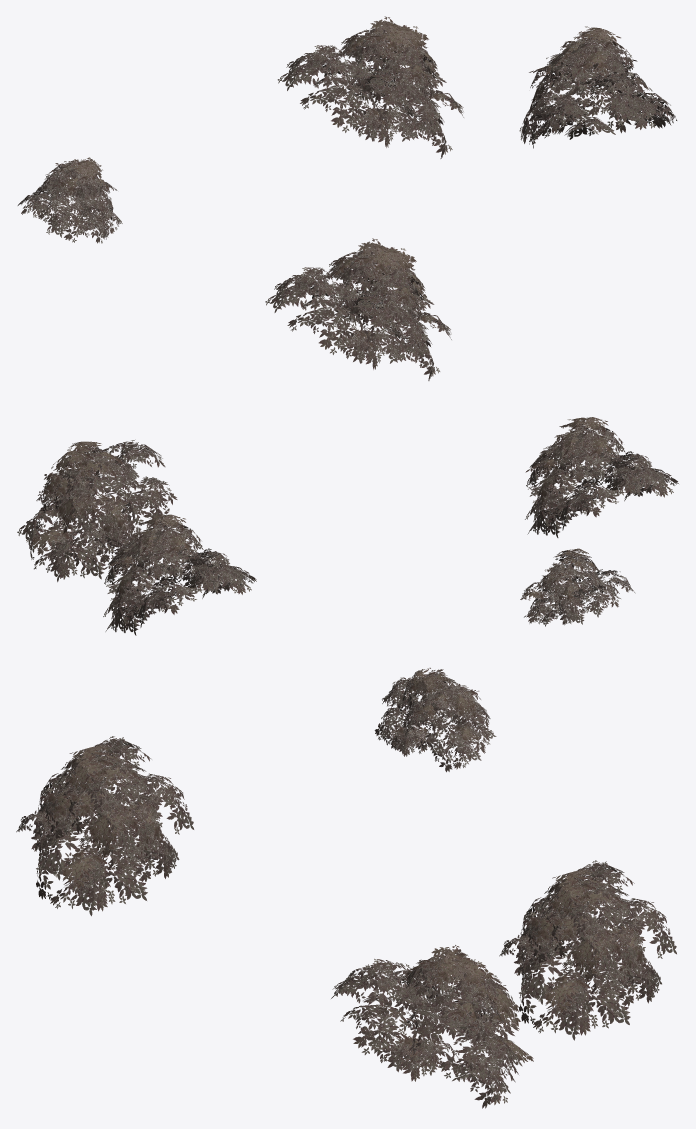
File: Area12_30.fbx
3 renders of one model, top to bottom at view 1: azimuth 30°, elevation 25°; view 2: azimuth 150°, elevation 25°; view 3: azimuth 270°, elevation 25°, orthographic. The views are drawn at different scales.
Parts seen in each view (by area): view 1: Area12_30; view 2: Area12_30; view 3: Area12_30.
Part boxes in pixels (x1=…): Area12_30: x1=17, y1=16, x2=677, y2=380; Area12_30: x1=17, y1=417, x2=678, y2=635; Area12_30: x1=16, y1=667, x2=676, y2=1108.
Size of the model in its own units: 1912 by 393 by 1592.
